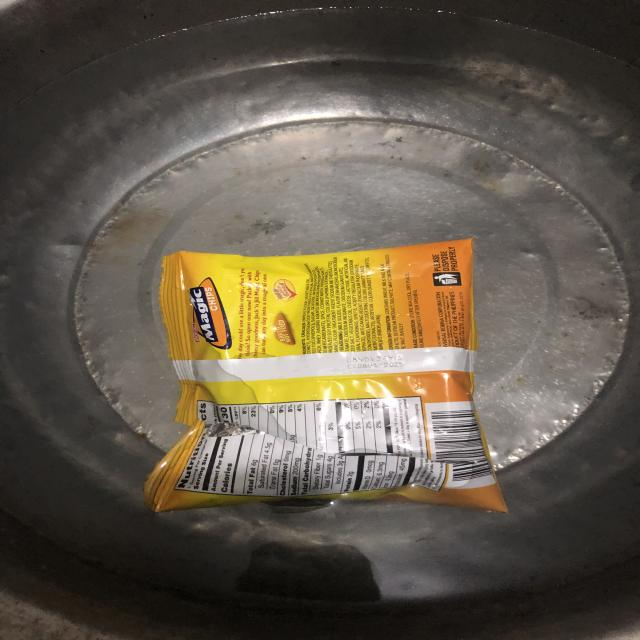Plastic Wrapper: (142, 235, 504, 515)
